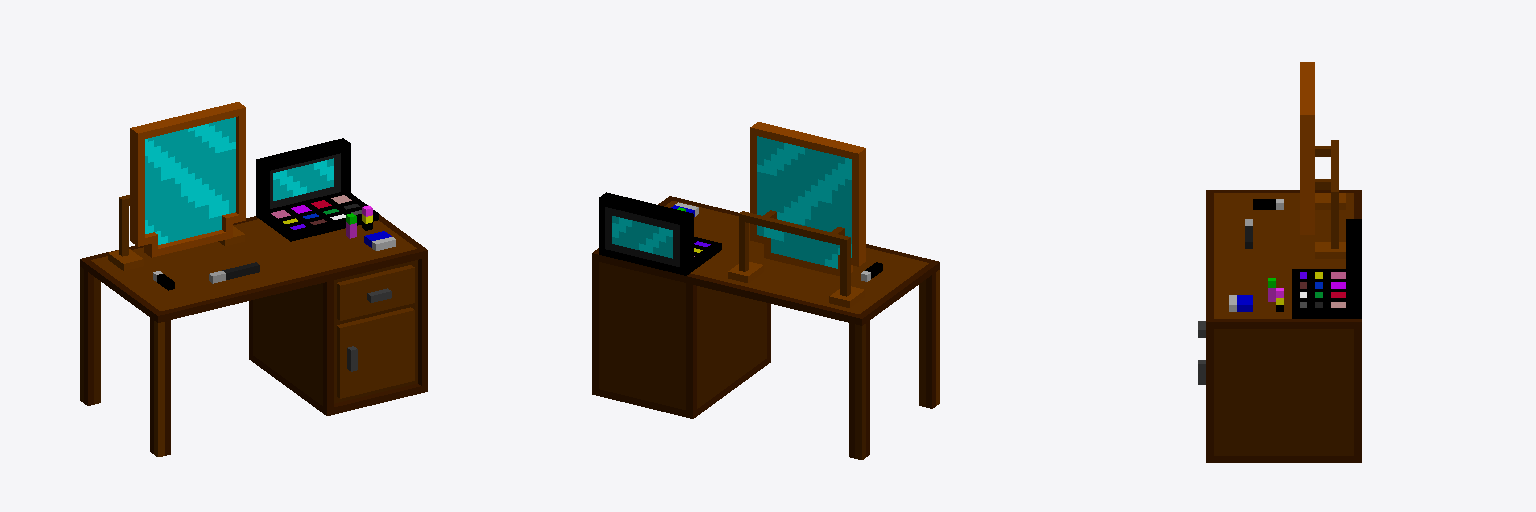
The picture shows the model from 3 angles: view 1: azimuth 30°, elevation 25°; view 2: azimuth 150°, elevation 25°; view 3: azimuth 270°, elevation 25°; orthographic projection.
Visible parts, largest first — view 1: object 1; view 2: object 1; view 3: object 1.
Part boxes in pixels (x1,y1,x2,y2): object 1: (80,102,427,456); object 1: (592,122,939,459); object 1: (1198,62,1361,462).
Size of the model in its own units: 4 by 4 by 2.1.
Materials: 1 (1 with a texture image).